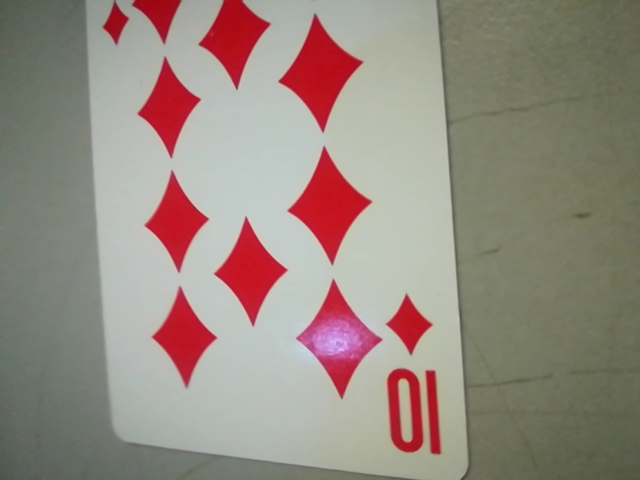fk 10: (376, 285, 455, 470)
